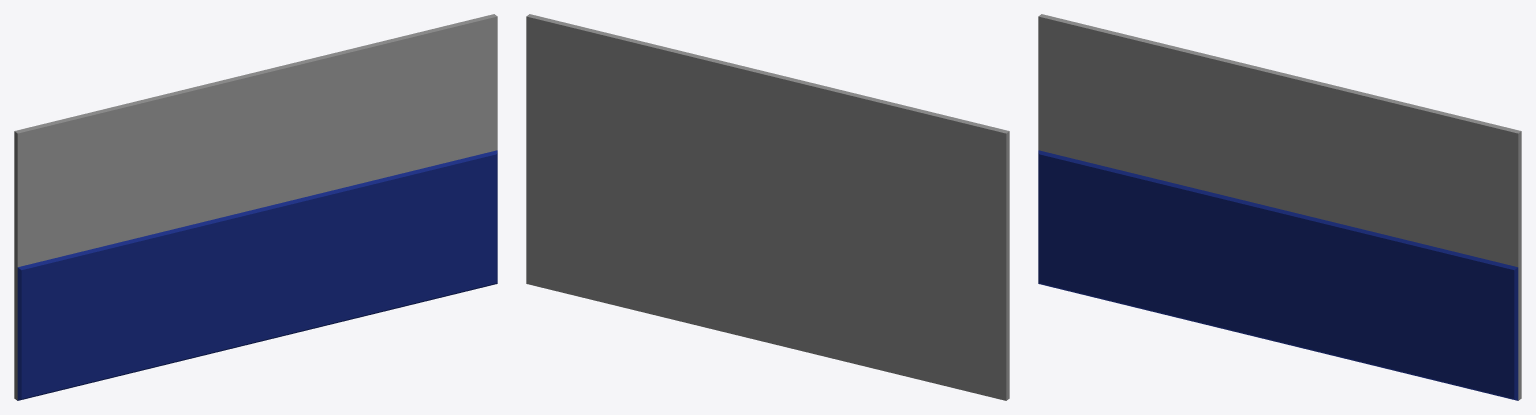
Rendered from wall with cushion.fbx.
3 renders of one model, left to right at view 1: azimuth 30°, elevation 25°; view 2: azimuth 150°, elevation 25°; view 3: azimuth 330°, elevation 25°, orthographic.
Parts seen in each view (by area): view 1: Cube; view 2: Cube; view 3: Cube.
Part boxes in pixels (left/top/right/bottom): Cube: left=14, top=14, right=497, bottom=400; Cube: left=526, top=14, right=1009, bottom=400; Cube: left=1038, top=14, right=1521, bottom=400.
Bounding box in the file's own units: 1435 × 764 × 25.14.
